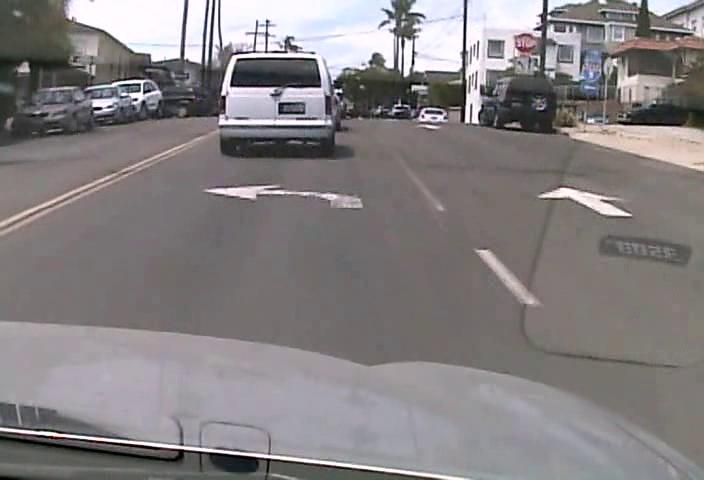stop: (513, 32, 537, 53)
